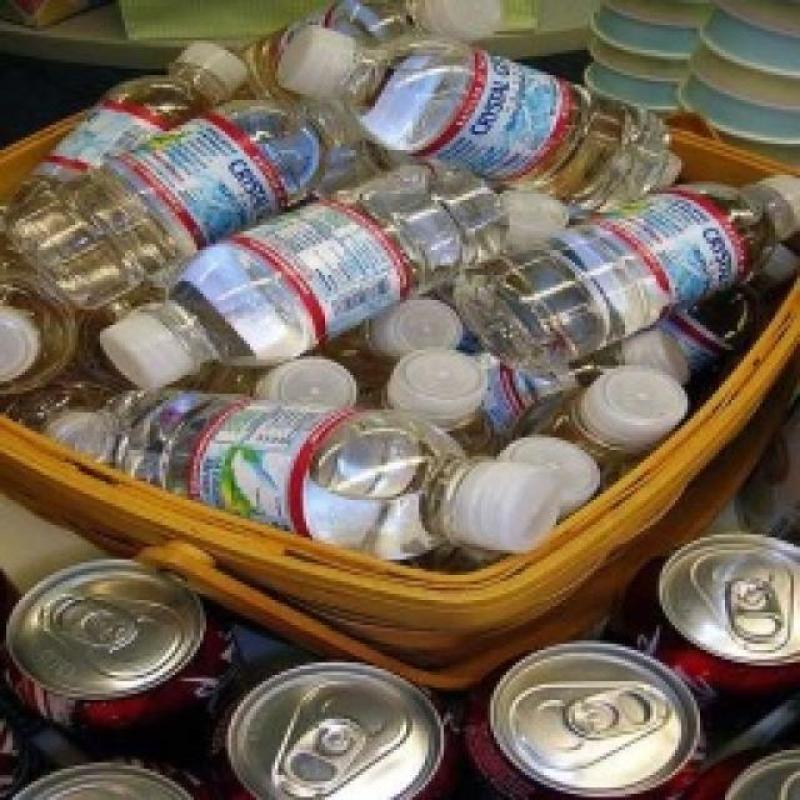botella: (101, 161, 501, 390), (98, 390, 558, 570), (16, 95, 366, 307), (282, 25, 666, 213), (465, 172, 800, 376), (18, 39, 247, 211), (514, 367, 693, 473), (0, 275, 81, 397), (486, 434, 599, 510), (384, 347, 490, 428), (366, 295, 466, 355), (256, 358, 356, 408)
